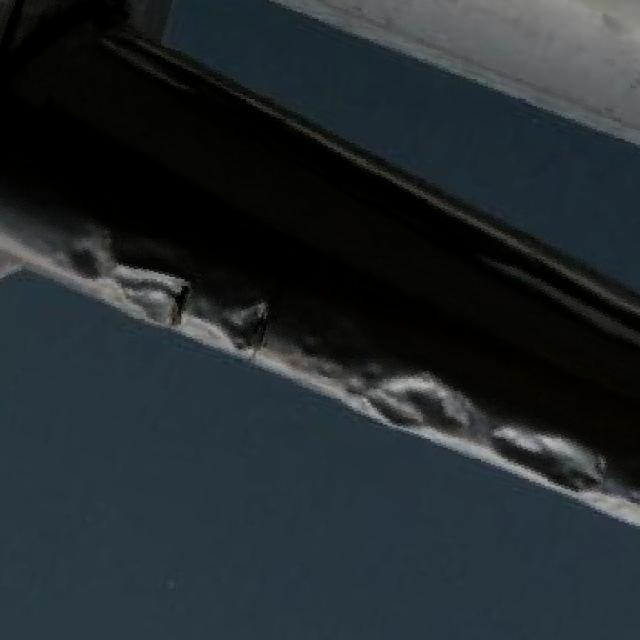dent: (481, 416, 617, 495), (366, 370, 472, 438), (111, 240, 199, 317), (208, 290, 287, 352), (62, 227, 113, 289)
